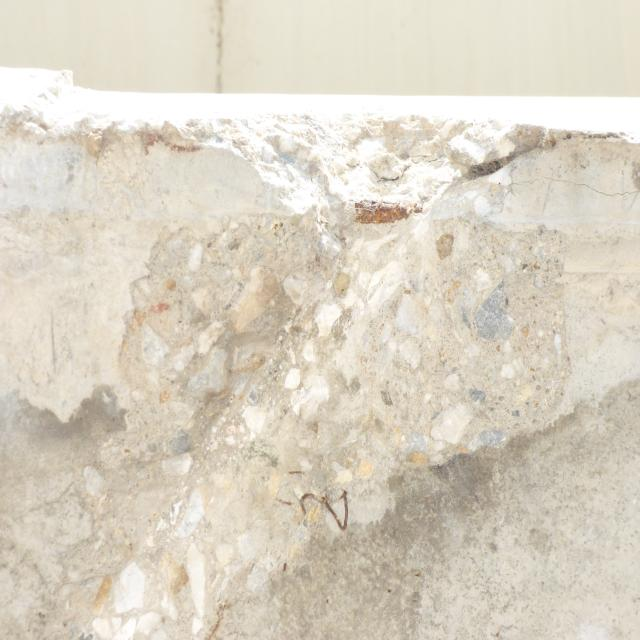corrosion: (275, 459, 432, 606), (146, 125, 228, 169), (354, 193, 422, 230), (464, 149, 525, 183), (204, 592, 236, 640)
